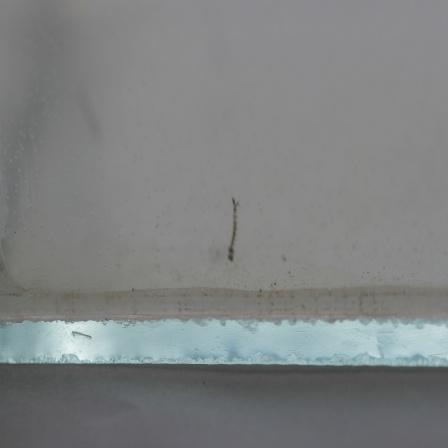Jentik-Nyamuk: (223, 193, 247, 265)
